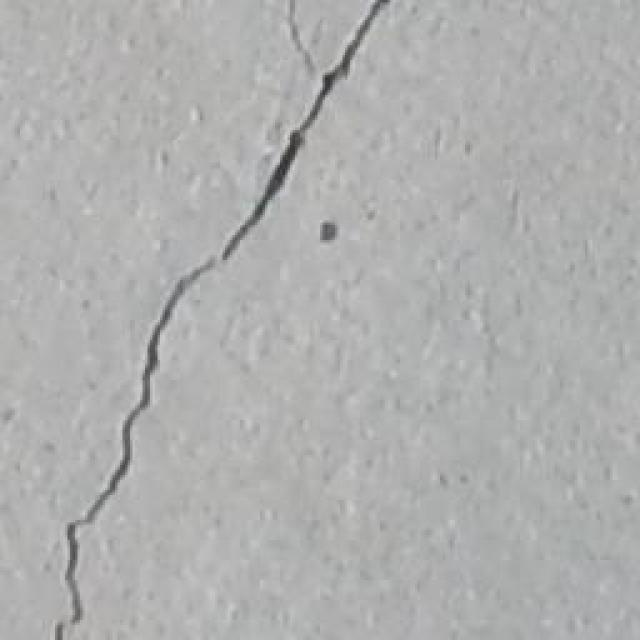concrete-crack: (52, 0, 392, 640)
